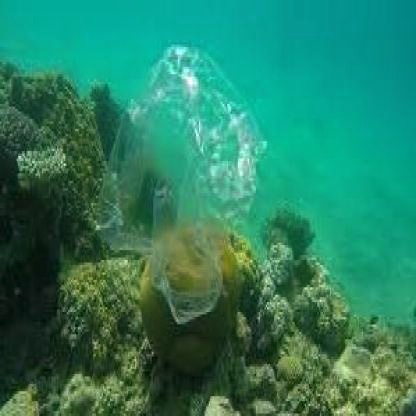pbag: (90, 35, 270, 334)
